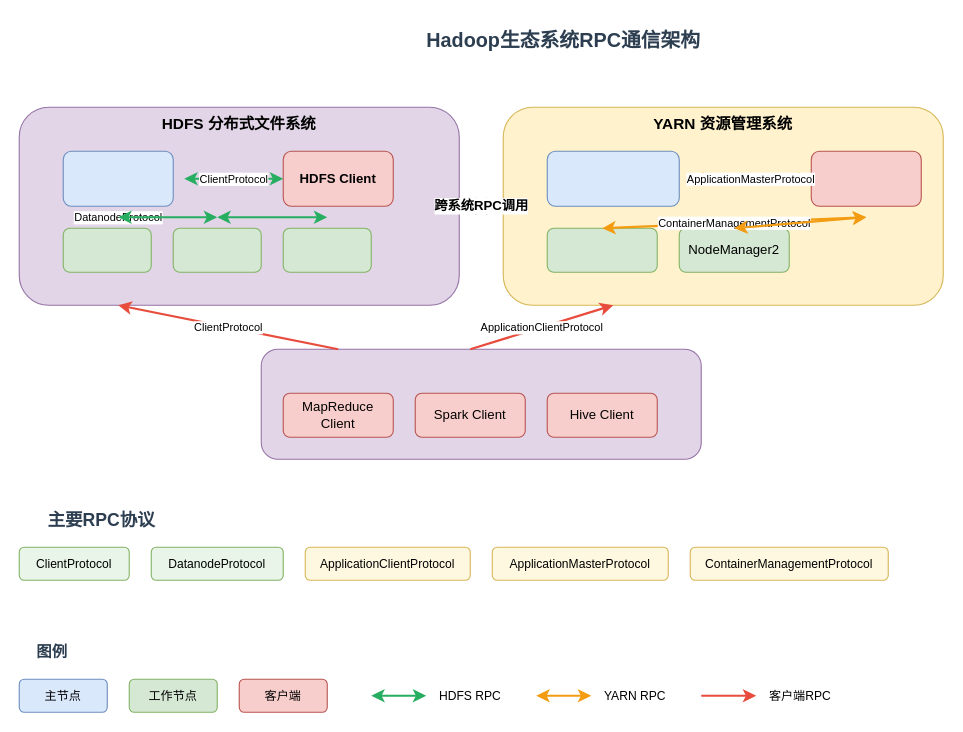
This 963x732 diagram has some shape labels left out. Each missing label, with the box of its shape:
ApplicationMaster: (810, 150, 921, 206)
DataNode1: (62, 227, 151, 272)
DataNode2: (172, 227, 261, 272)
DataNode3: (282, 227, 371, 272)
NameNode: (62, 150, 173, 206)
NodeManager1: (546, 227, 657, 272)
ResourceManager: (546, 150, 679, 206)
客户端应用: (260, 348, 701, 459)
